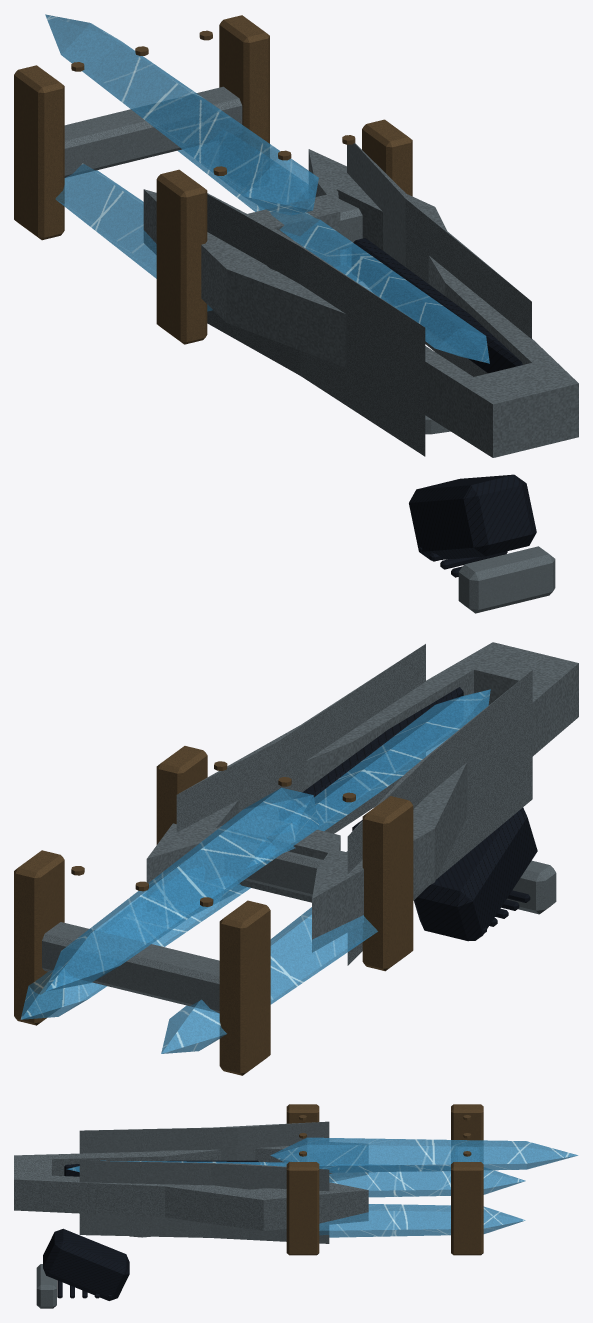
Rendered from rime-focus-ready.glb.
3 renders of one model, top to bottom at view 1: azimuth 30°, elevation 25°; view 2: azimuth 150°, elevation 25°; view 3: azimuth 270°, elevation 25°, orthographic. The views are drawn at different scales.
Parts seen in each view (by area): view 1: Sculpted open silver receiver, Swept receiver fin, Independent ice cartridge, Swept receiver fin.001, Cartridge clamp bridge.001, Angled slate pistol grip, Rear dorsal ice conduit, Locking cartridge side bracket.002, Locking cartridge side bracket, Slate receiver spine.001, Independent ice cartridge.001, Locking cartridge side bracket.003 (+3 smaller); view 2: Sculpted open silver receiver, Independent ice cartridge, Swept receiver fin.001, Swept receiver fin, Cartridge clamp bridge.001, Locking cartridge side bracket.002, Locking cartridge side bracket, Angled slate pistol grip, Rear dorsal ice conduit, Independent ice cartridge.001, Locking cartridge side bracket.003, Slate receiver spine.001 (+4 smaller); view 3: Sculpted open silver receiver, Swept receiver fin.001, Independent ice cartridge, Swept receiver fin, Independent ice cartridge.002, Angled slate pistol grip, Independent ice cartridge.001, Locking cartridge side bracket.001, Locking cartridge side bracket.003, Locking cartridge side bracket.002, Silver flared grip heel, Locking cartridge side bracket (+3 smaller).
Part boxes in pixels (x1,y1,x2,y2): Sculpted open silver receiver: (143, 149, 578, 457); Swept receiver fin: (207, 193, 425, 456); Independent ice cartridge: (45, 14, 318, 215); Swept receiver fin.001: (347, 143, 531, 376); Cartridge clamp bridge.001: (64, 86, 242, 177); Angled slate pistol grip: (409, 474, 536, 560); Rear dorsal ice conduit: (245, 184, 489, 363); Locking cartridge side bracket.002: (14, 65, 64, 240); Locking cartridge side bracket: (156, 169, 207, 344); Slate receiver spine.001: (352, 238, 522, 373); Independent ice cartridge.001: (55, 163, 212, 311); Locking cartridge side bracket.003: (219, 15, 269, 156); Sculpted open silver receiver: (146, 642, 578, 952); Independent ice cartridge: (45, 787, 319, 991); Swept receiver fin.001: (176, 644, 425, 911); Swept receiver fin: (347, 670, 532, 965); Cartridge clamp bridge.001: (42, 922, 219, 1013); Locking cartridge side bracket.002: (219, 900, 270, 1075); Locking cartridge side bracket: (362, 796, 413, 971); Angled slate pistol grip: (414, 807, 537, 941); Rear dorsal ice conduit: (245, 689, 490, 868); Independent ice cartridge.001: (161, 907, 377, 1053); Locking cartridge side bracket.003: (14, 850, 64, 1025); Slate receiver spine.001: (279, 687, 463, 824); Sculpted open silver receiver: (14, 1142, 368, 1230); Swept receiver fin.001: (79, 1160, 329, 1243); Independent ice cartridge: (270, 1137, 578, 1172); Swept receiver fin: (79, 1121, 329, 1160); Independent ice cartridge.002: (319, 1204, 525, 1237); Angled slate pistol grip: (43, 1228, 129, 1300); Independent ice cartridge.001: (329, 1170, 525, 1197); Locking cartridge side bracket.001: (286, 1162, 319, 1255); Locking cartridge side bracket.003: (451, 1162, 483, 1255); Locking cartridge side bracket.002: (451, 1104, 483, 1163); Silver flared grip heel: (36, 1264, 56, 1308); Locking cartridge side bracket: (286, 1104, 319, 1123).
Size of the model in its own units: 0.2355 by 0.275 by 0.86.
4 materials, 4 textured.
